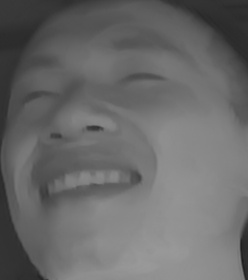eye: (109, 61, 168, 94), (15, 84, 62, 112)
mouth: (30, 156, 146, 209)
